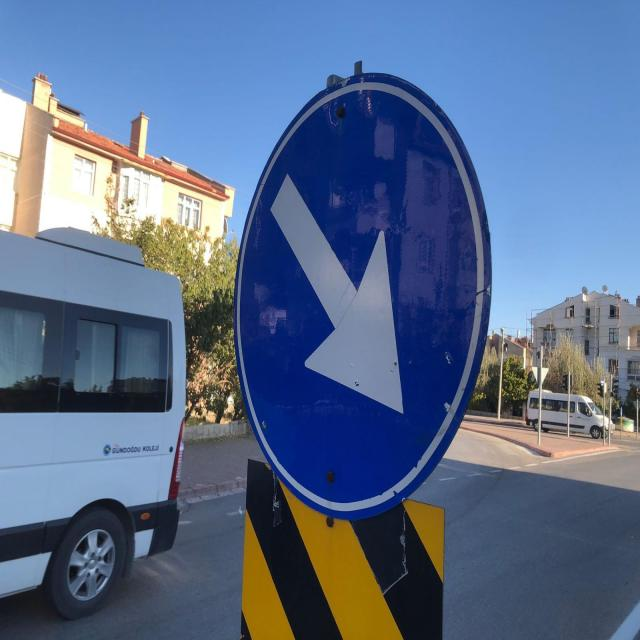compulsory_keep_right: (226, 63, 497, 520)
